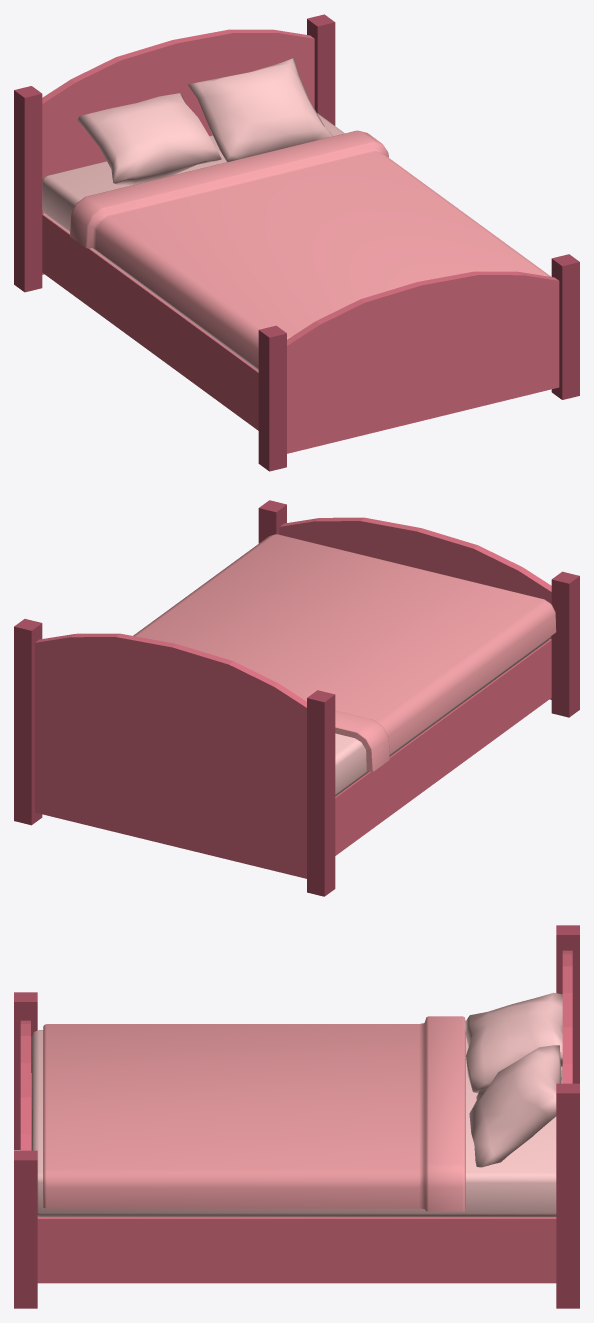
Rendered from Prop_Bed_09.fbx.
The picture shows the model from 3 angles, top to bottom: view 1: azimuth 30°, elevation 25°; view 2: azimuth 150°, elevation 25°; view 3: azimuth 270°, elevation 25°; orthographic projection. The views are drawn at different scales.
Parts seen in each view (by area): view 1: Prop_Bed_09; view 2: Prop_Bed_09; view 3: Prop_Bed_09.
Boxes of the visible parts, x1=… form: Prop_Bed_09: x1=14, y1=14, x2=579, y2=471; Prop_Bed_09: x1=14, y1=500, x2=579, y2=896; Prop_Bed_09: x1=14, y1=925, x2=579, y2=1308.
Bounding box in the file's own units: 154 × 99.33 × 220.
